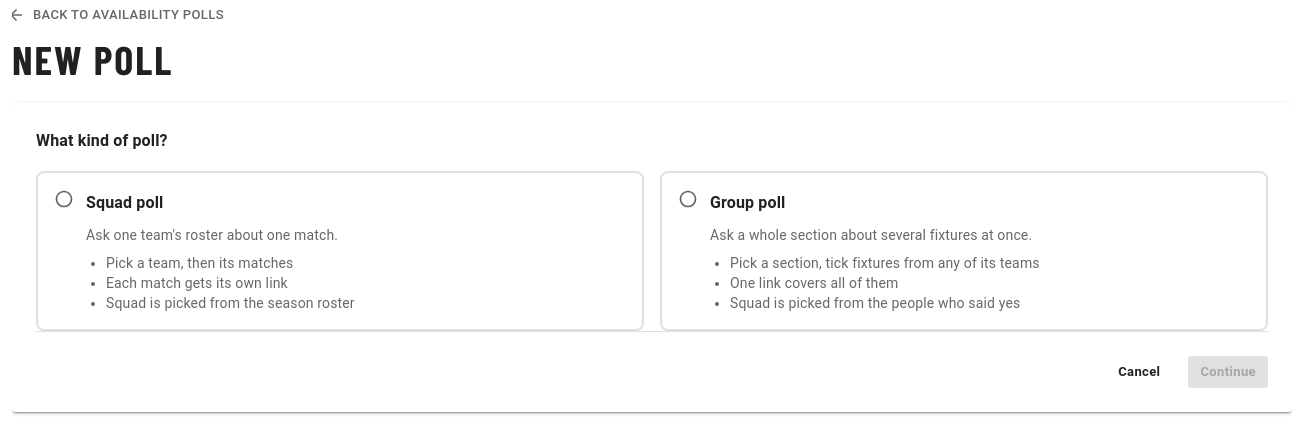
it: NewPollPage › chooser › Continue routes to the Squad branch
Click the radio button labelled "Squad poll". click: click(125, 202)
box: [36,171,644,331]
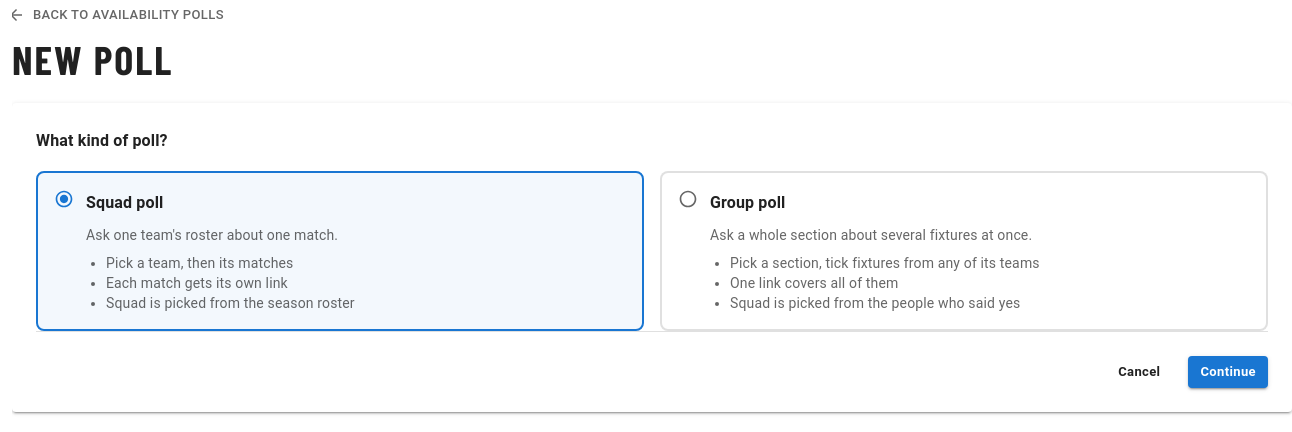
Click the button "Continue". click: click(1228, 372)
box: [1188,356,1268,388]
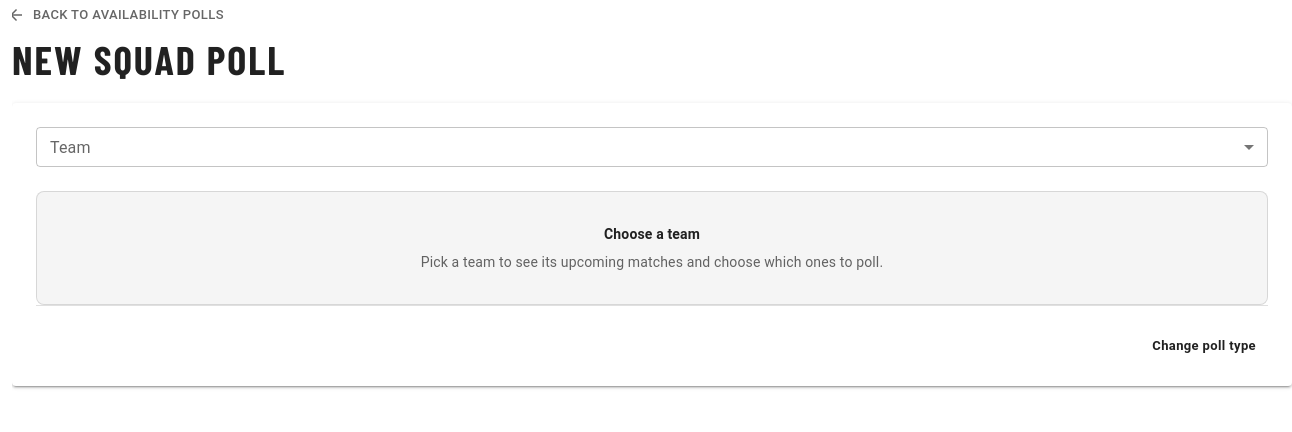
Result: the dropdown named "Team" is shown at [36,127,1268,167]
Result: the text "Choose a team" is shown at [604,224,700,244]
